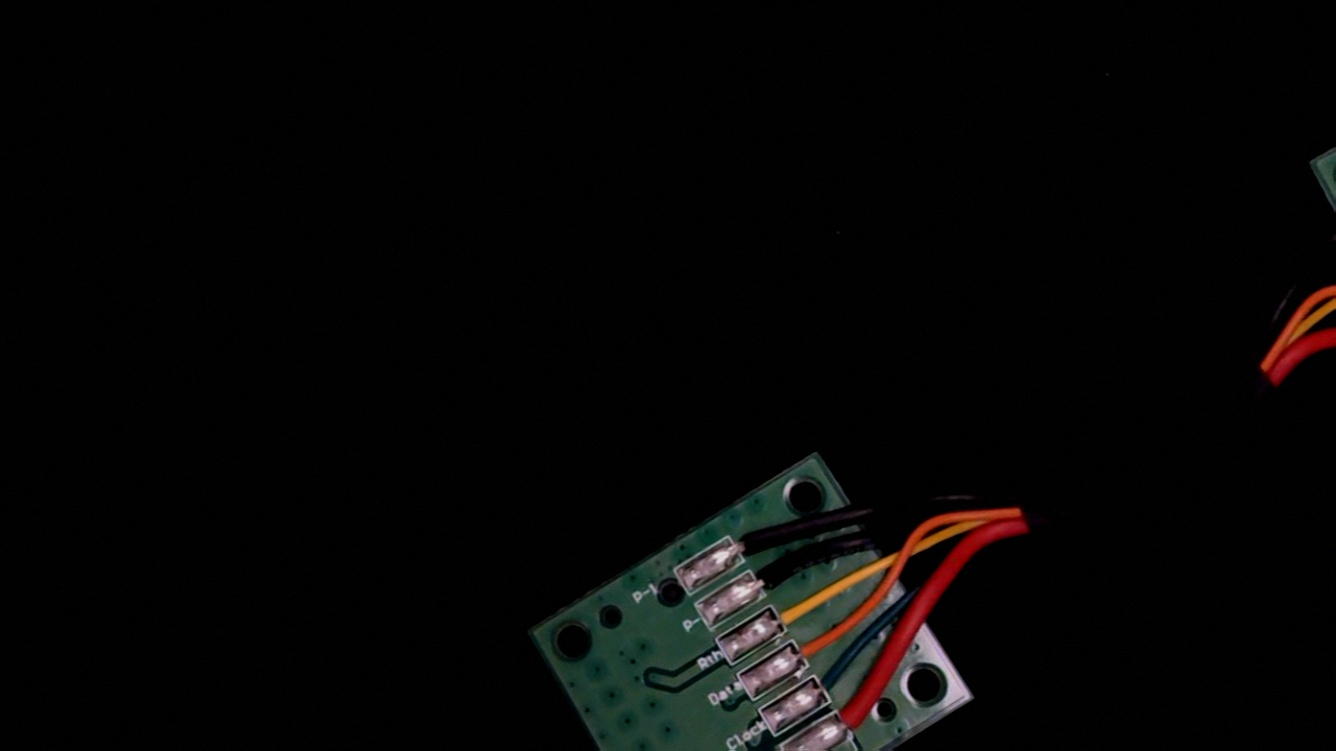Black: (731, 541, 815, 610)
Black1: (708, 508, 786, 573)
Green: (794, 648, 875, 715)
Orange: (774, 613, 856, 679)
Red: (817, 684, 898, 751)
Yellow: (752, 575, 837, 644)
